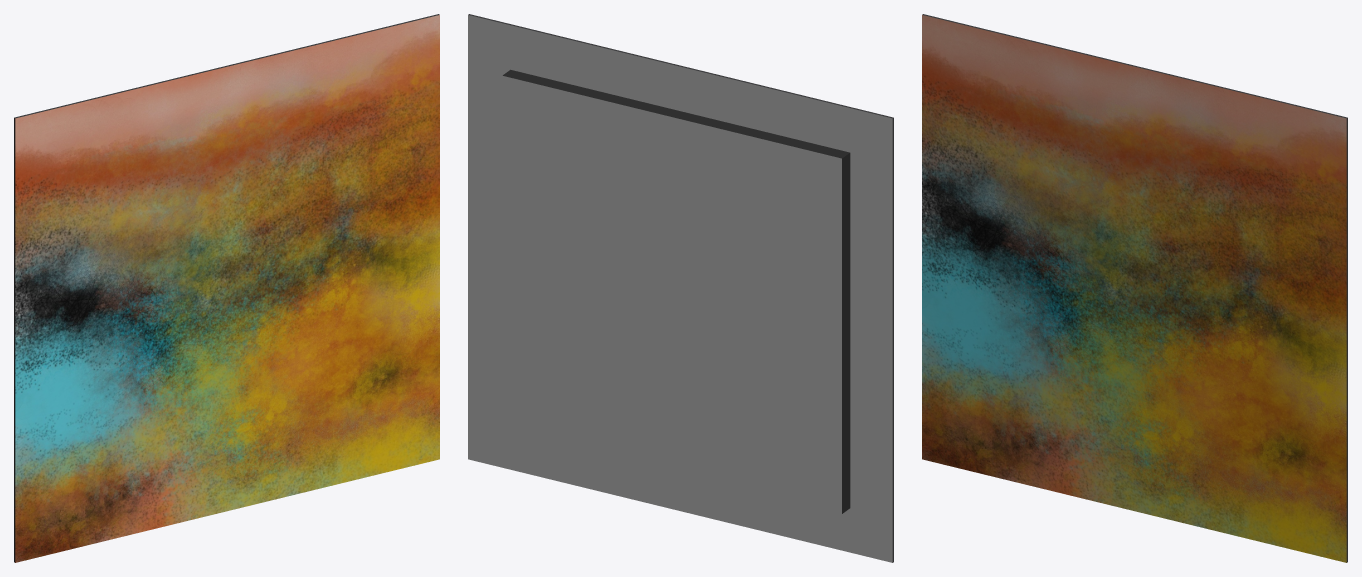
Rendered from va238_moyen_dibond.glb.
The picture shows the model from 3 angles, left to right: view 1: azimuth 30°, elevation 25°; view 2: azimuth 150°, elevation 25°; view 3: azimuth 330°, elevation 25°; orthographic projection.
Visible parts, largest first — view 1: va238_moyen_dibond; view 2: va238_moyen_dibond; view 3: va238_moyen_dibond.
Part boxes in pixels (x1,y1,x2,y2): va238_moyen_dibond: [14, 14, 439, 562]; va238_moyen_dibond: [468, 14, 893, 562]; va238_moyen_dibond: [922, 14, 1347, 562].
Size of the model in its own units: 0.6 by 0.6 by 0.023.
4 materials, 1 textured.
